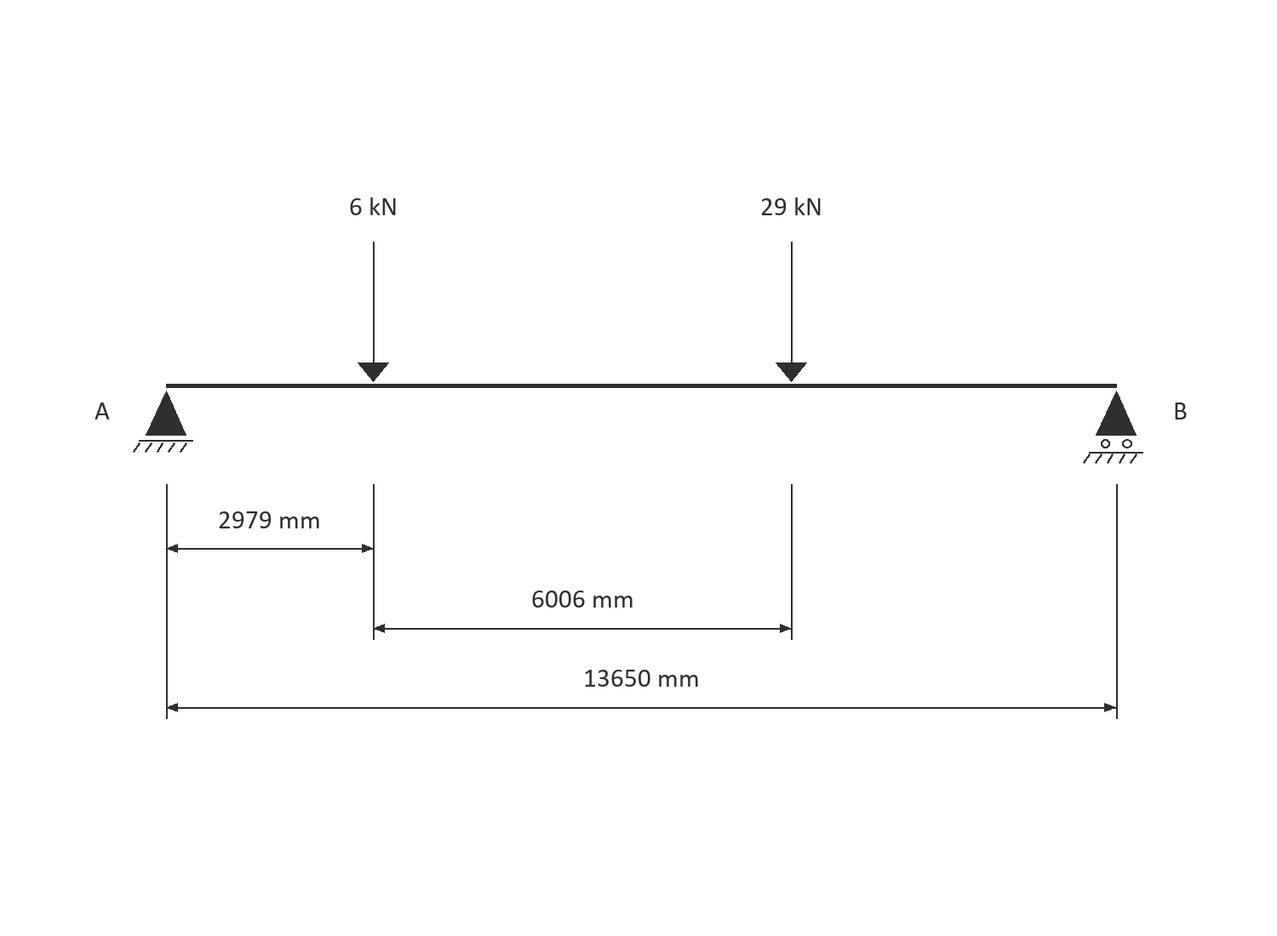pin_support: (133, 391, 193, 453)
point_load: (358, 242, 389, 382), (776, 242, 807, 382)
roller_support: (1083, 391, 1143, 464)
